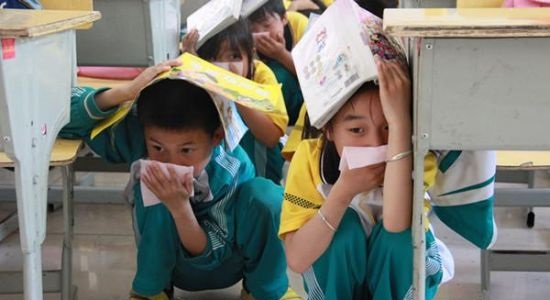face: (334, 94, 400, 167), (145, 125, 208, 181), (205, 36, 252, 83), (248, 8, 279, 52)
